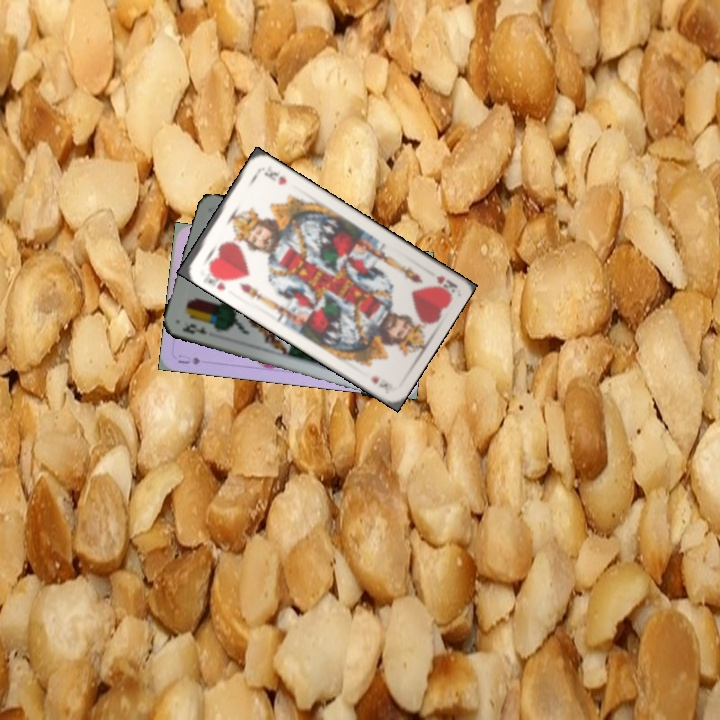EK: (178, 320, 209, 337)
HK: (204, 264, 232, 293), (432, 272, 458, 295)
SU: (174, 351, 202, 367)
